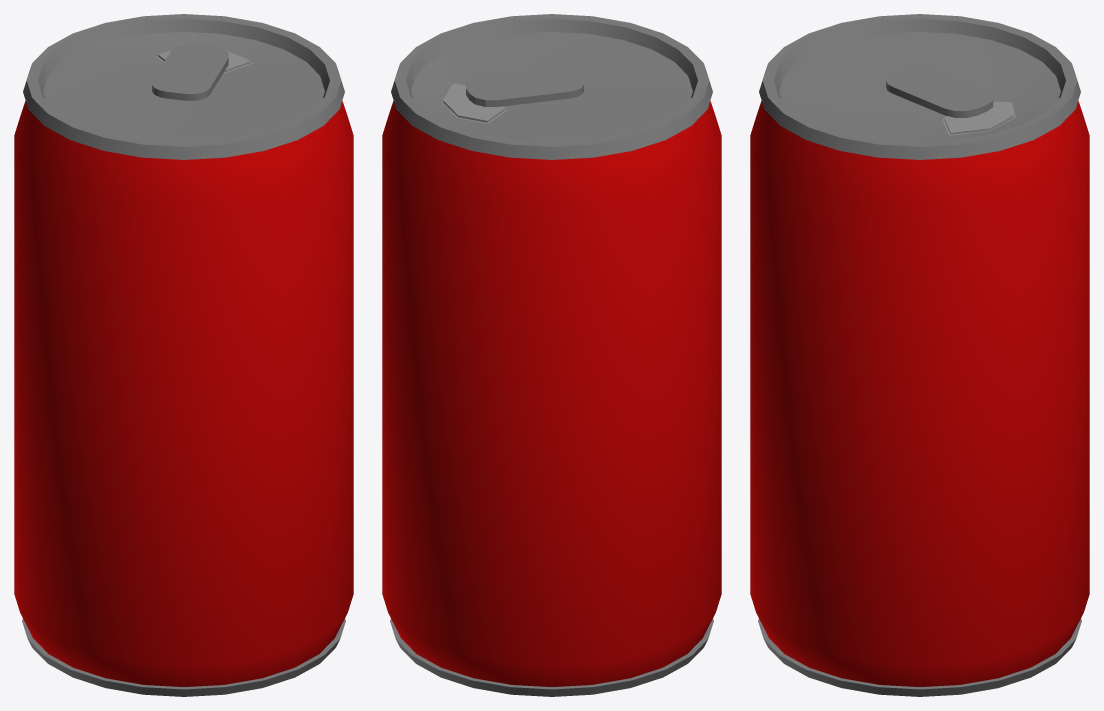
File: can.fbx
3 views of the same model, side by side, from view 1: azimuth 30°, elevation 25°; view 2: azimuth 150°, elevation 25°; view 3: azimuth 270°, elevation 25° (orthographic).
Visible parts, largest first — view 1: Cylinder; view 2: Cylinder; view 3: Cylinder.
Boxes of the visible parts, left/top/right/bottom form: Cylinder: left=14, top=14, right=353, bottom=696; Cylinder: left=382, top=14, right=721, bottom=696; Cylinder: left=750, top=14, right=1089, bottom=696.
Size of the model in its own units: 11.2 by 20.01 by 11.2.
